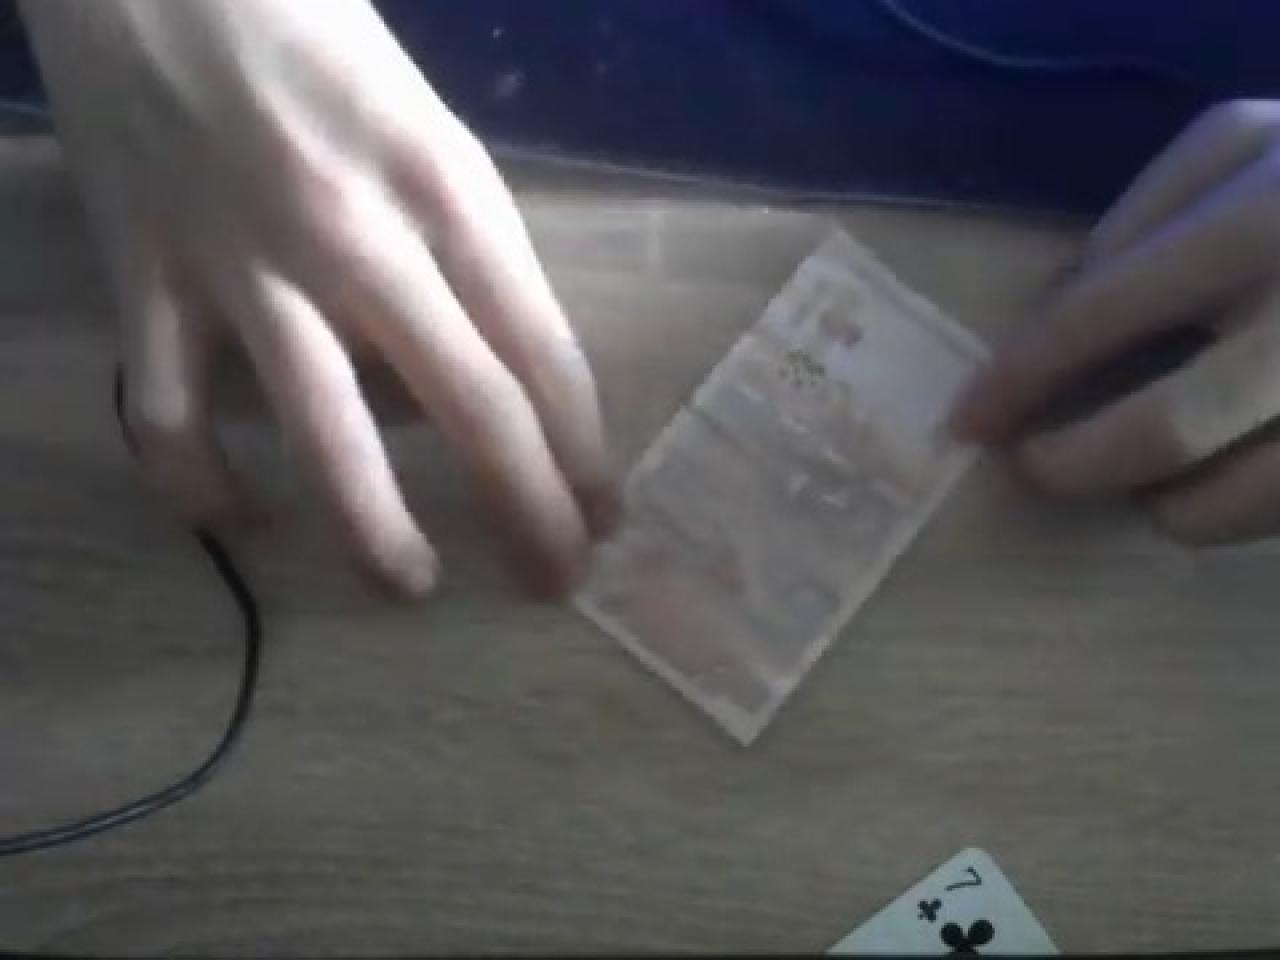5leva: (570, 229, 992, 752)
